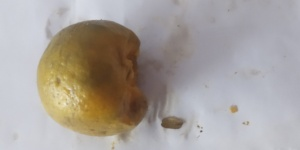BAD: (35, 18, 150, 137)
